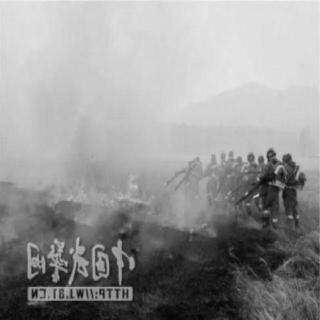Fire: (61, 175, 160, 219)
Smoke: (46, 13, 164, 171)
other: (176, 144, 310, 222)
